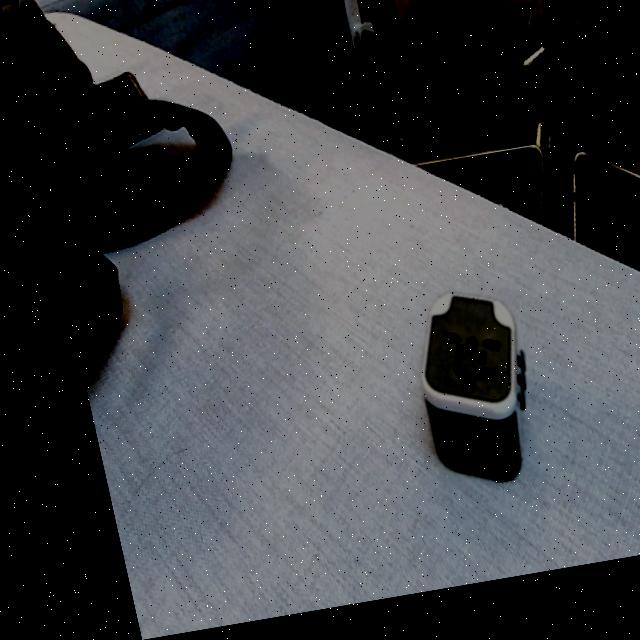adapter: (383, 295, 527, 504)
